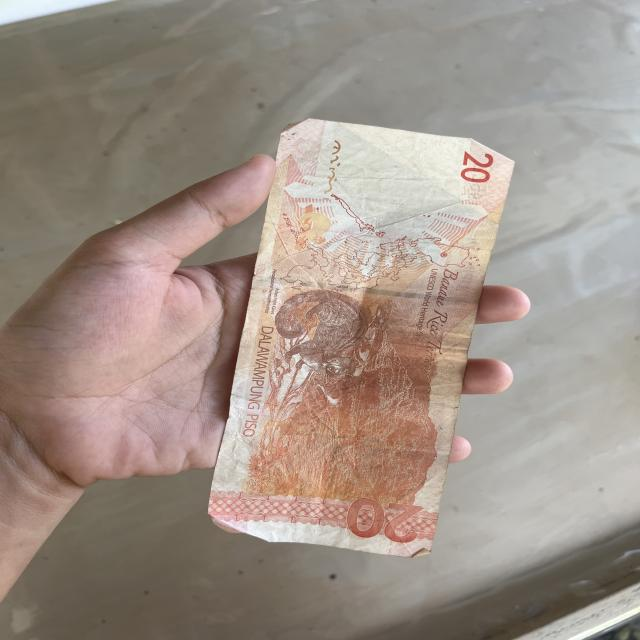20_civet: (273, 288, 360, 379)
20_civet_watermark: (291, 204, 333, 252)
